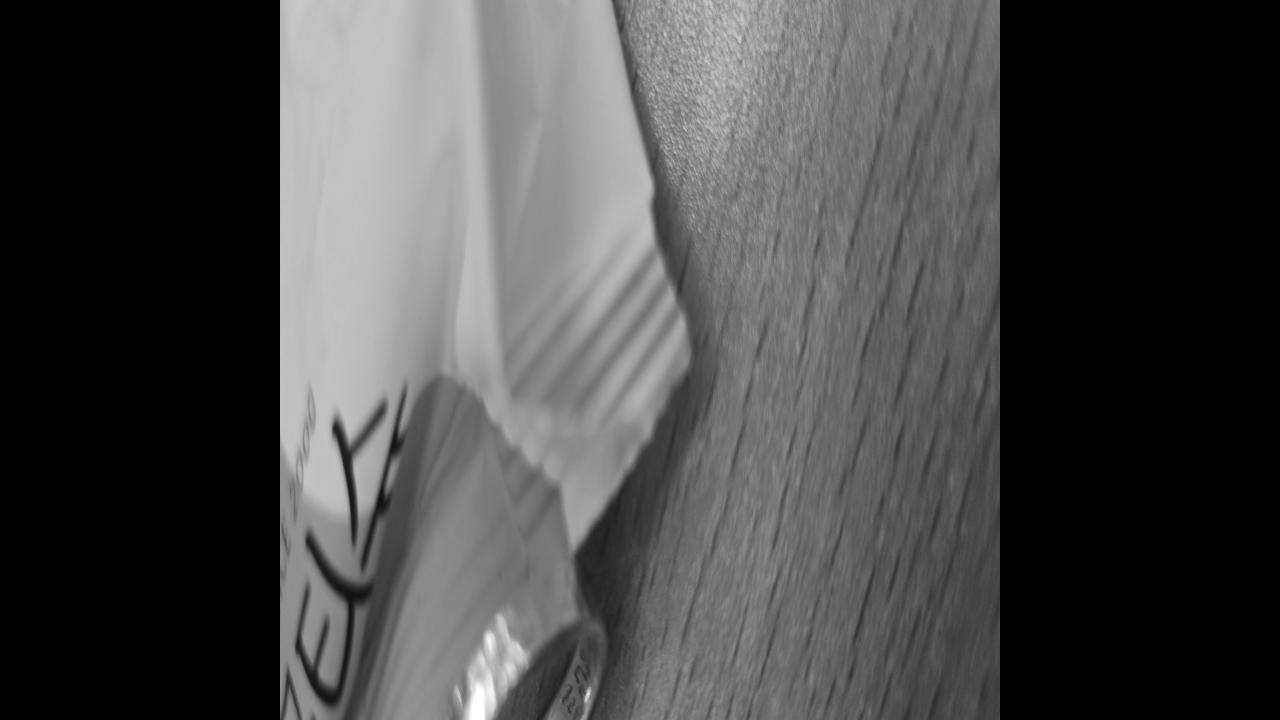ring: (420, 548, 608, 720)
